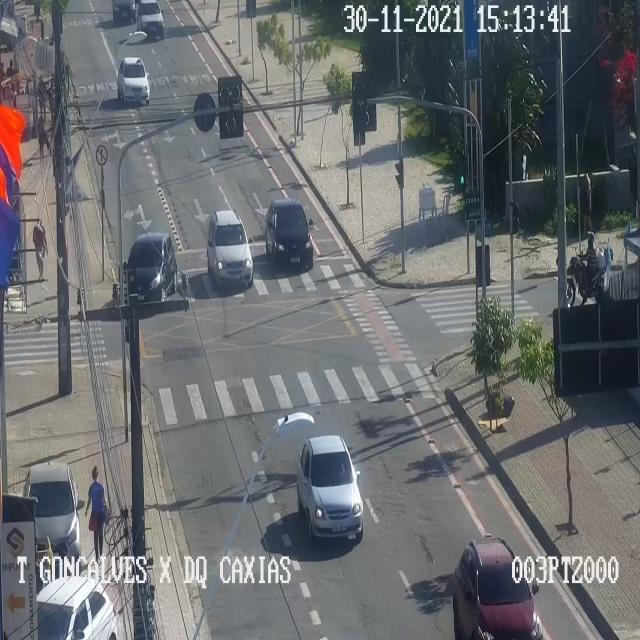Car: (452, 539, 542, 639), (296, 434, 362, 538), (24, 463, 80, 567), (37, 576, 117, 639), (123, 232, 177, 302), (206, 210, 252, 285), (264, 198, 312, 267), (117, 57, 149, 102), (136, 1, 166, 43), (114, 0, 136, 25)
Motorcycle: (566, 231, 608, 306)
